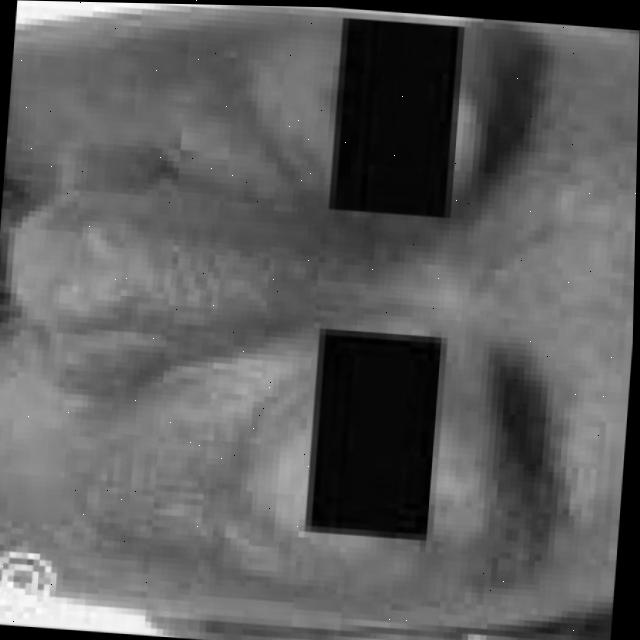Melasma: (68, 178, 299, 396), (117, 419, 285, 576), (150, 3, 269, 91)
